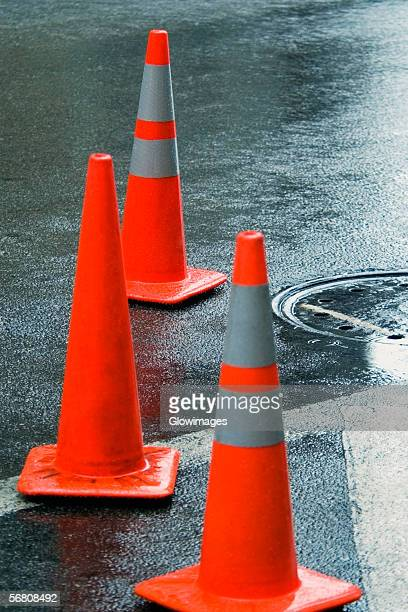cones: (176, 229, 356, 612), (38, 151, 176, 501), (120, 26, 223, 299)
